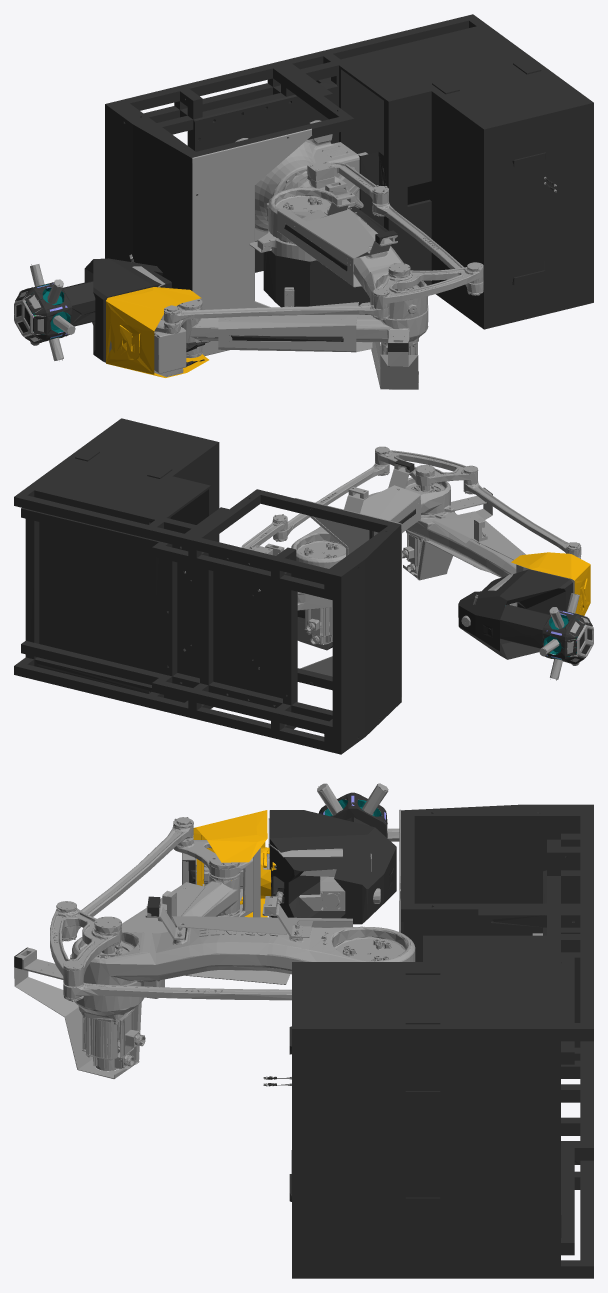
File: resource-zone-collision.glb
3 views of the same model, one above another, from view 1: azimuth 30°, elevation 25°; view 2: azimuth 150°, elevation 25°; view 3: azimuth 270°, elevation 25° (orthographic). The views are drawn at different scales.
Parts seen in each view (by area): view 1: source_13267847_7000001_1_1, source_13267846_7000001_1_ASM, source_13267862_7000001_1_16, source_13267852_7000001_1_6, source_13267861_7000001_1_15, source_13267860_7000001_1_14, source_13267858_7000001_1_12; view 2: source_13267847_7000001_1_1, source_13267846_7000001_1_ASM, source_13267862_7000001_1_16, source_13267852_7000001_1_6; view 3: source_13267847_7000001_1_1, source_13267846_7000001_1_ASM, source_13267862_7000001_1_16, source_13267852_7000001_1_6.
Part boxes in pixels (x1,y1,x2,y2): source_13267847_7000001_1_1: (105, 14, 593, 329); source_13267846_7000001_1_ASM: (14, 120, 556, 389); source_13267862_7000001_1_16: (15, 258, 171, 362); source_13267852_7000001_1_6: (106, 287, 208, 377); source_13267861_7000001_1_15: (263, 246, 398, 307); source_13267860_7000001_1_14: (358, 151, 386, 210); source_13267858_7000001_1_12: (229, 335, 343, 341); source_13267847_7000001_1_1: (14, 418, 401, 754); source_13267846_7000001_1_ASM: (185, 446, 593, 702); source_13267862_7000001_1_16: (458, 569, 592, 680); source_13267852_7000001_1_6: (511, 552, 590, 615); source_13267847_7000001_1_1: (263, 804, 593, 1278); source_13267846_7000001_1_ASM: (14, 799, 542, 1086); source_13267862_7000001_1_16: (260, 783, 399, 924); source_13267852_7000001_1_6: (193, 810, 267, 917).
Bounding box in the file's own units: 2.29 × 0.81 × 1.68.
